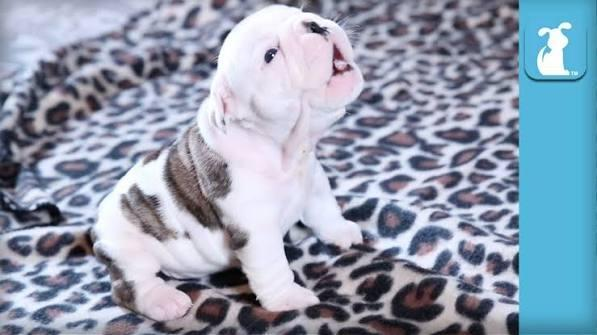puppy-dog: (91, 2, 367, 324)
